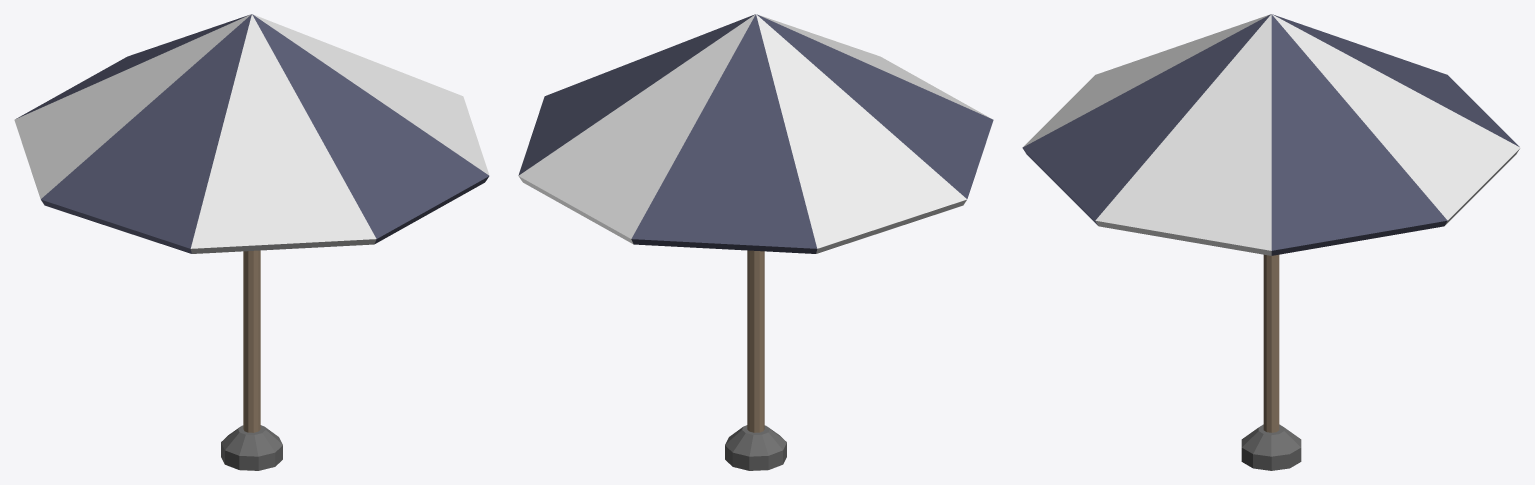
Rendered from Sombrilla tipo 1.fbx.
3 views of the same model, side by side, from view 1: azimuth 30°, elevation 25°; view 2: azimuth 150°, elevation 25°; view 3: azimuth 270°, elevation 25° (orthographic).
Parts seen in each view (by area): view 1: Sombrilla, Soporte_de_sombrilla; view 2: Sombrilla, Soporte_de_sombrilla; view 3: Sombrilla, Soporte_de_sombrilla.
Boxes of the visible parts, x1,y1,x2,y2 form: Sombrilla: (14, 14, 489, 253); Soporte_de_sombrilla: (221, 250, 282, 470); Sombrilla: (518, 14, 993, 253); Soporte_de_sombrilla: (725, 250, 786, 470); Sombrilla: (1022, 14, 1520, 255); Soporte_de_sombrilla: (1241, 254, 1301, 470).
Size of the model in its own units: 3.82 by 3.83 by 3.9.
